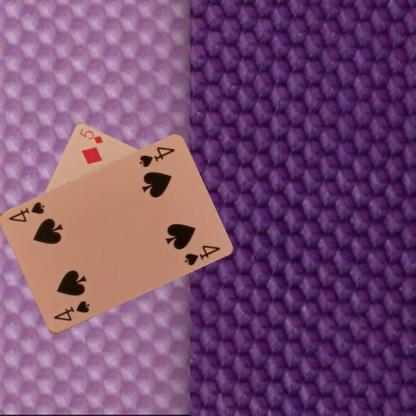4s: (136, 144, 176, 170), (51, 298, 92, 323)
